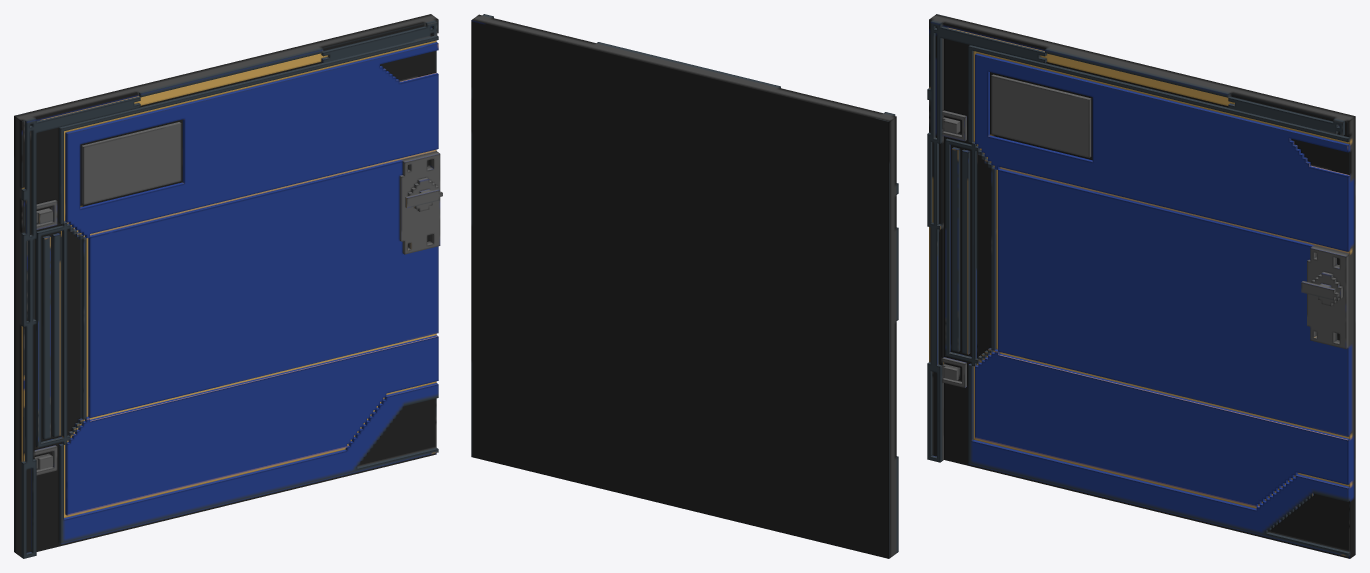
Rendered from DoorsLeft.fbx.
3 renders of one model, left to right at view 1: azimuth 30°, elevation 25°; view 2: azimuth 150°, elevation 25°; view 3: azimuth 330°, elevation 25°, orthographic.
Parts seen in each view (by area): view 1: DoorsLeft.001; view 2: DoorsLeft.001; view 3: DoorsLeft.001.
Boxes of the visible parts, bbox=[...] form: DoorsLeft.001: bbox=[14, 14, 442, 558]; DoorsLeft.001: bbox=[471, 14, 898, 558]; DoorsLeft.001: bbox=[927, 14, 1355, 558].
Bounding box in the file's own units: 12.8 × 12.8 × 0.8.
Materials: 1 (1 with a texture image).
